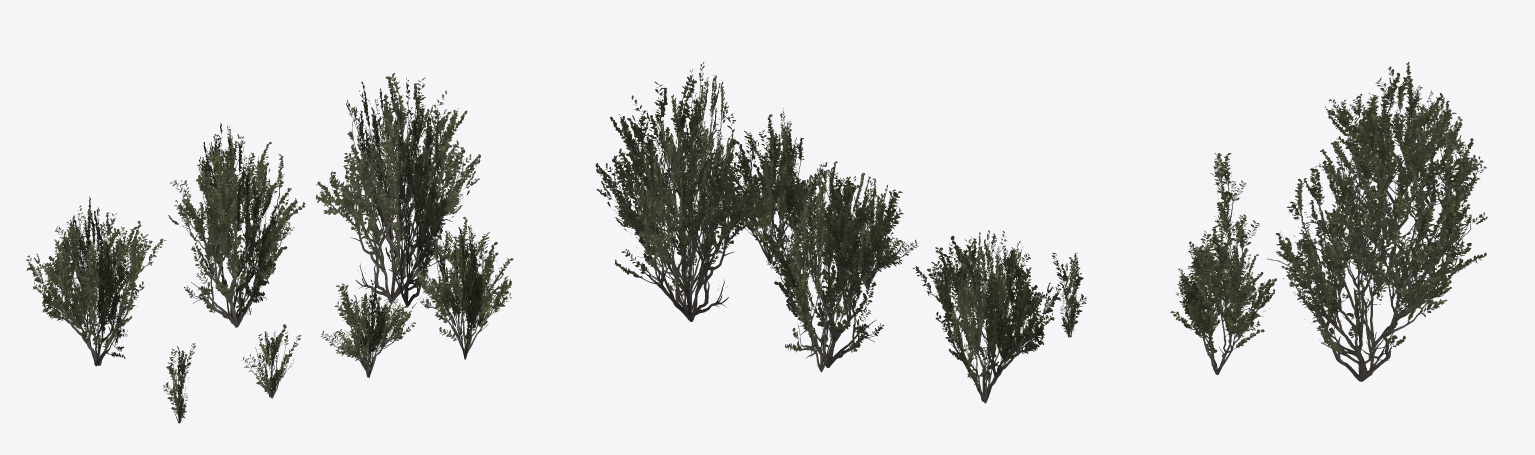
File: searsia_lucida.glb
3 renders of one model, left to right at view 1: azimuth 30°, elevation 25°; view 2: azimuth 150°, elevation 25°; view 3: azimuth 270°, elevation 25°, orthographic. The views are drawn at different scales.
Visible parts, largest first — view 1: searsia_lucida_a_LOD0, searsia_lucida_b_LOD0, searsia_lucida_c_LOD0, searsia_lucida_d_LOD0, searsia_lucida_e_LOD0, searsia_lucida_f_LOD0, searsia_lucida_g_LOD0; view 2: searsia_lucida_a_LOD0, searsia_lucida_b_LOD0, searsia_lucida_c_LOD0, searsia_lucida_d_LOD0, searsia_lucida_e_LOD0, searsia_lucida_g_LOD0, searsia_lucida_f_LOD0; view 3: searsia_lucida_a_LOD0, searsia_lucida_b_LOD0, searsia_lucida_c_LOD0, searsia_lucida_d_LOD0, searsia_lucida_e_LOD0, searsia_lucida_f_LOD0, searsia_lucida_g_LOD0.
Part boxes in pixels (box(x1,y1,x2,y2)): searsia_lucida_a_LOD0: box(315, 73, 480, 306); searsia_lucida_b_LOD0: box(168, 123, 305, 327); searsia_lucida_c_LOD0: box(26, 196, 166, 366); searsia_lucida_d_LOD0: box(411, 216, 513, 359); searsia_lucida_e_LOD0: box(321, 280, 416, 377); searsia_lucida_f_LOD0: box(241, 324, 301, 398); searsia_lucida_g_LOD0: box(163, 343, 195, 423); searsia_lucida_a_LOD0: box(595, 62, 771, 321); searsia_lucida_b_LOD0: box(755, 161, 900, 372); searsia_lucida_c_LOD0: box(912, 230, 1061, 403); searsia_lucida_d_LOD0: box(720, 108, 827, 262); searsia_lucida_e_LOD0: box(819, 178, 918, 289); searsia_lucida_g_LOD0: box(1052, 252, 1086, 337); searsia_lucida_f_LOD0: box(935, 235, 996, 309); searsia_lucida_a_LOD0: box(1267, 144, 1487, 381); searsia_lucida_b_LOD0: box(1318, 102, 1486, 297); searsia_lucida_c_LOD0: box(1325, 62, 1464, 230); searsia_lucida_d_LOD0: box(1170, 230, 1276, 374); searsia_lucida_e_LOD0: box(1189, 225, 1263, 325); searsia_lucida_f_LOD0: box(1206, 207, 1259, 272); searsia_lucida_g_LOD0: box(1210, 153, 1246, 231).
Size of the model in its own units: 5.21 by 2.43 by 3.38.
Materials: 14 (14 with a texture image).
